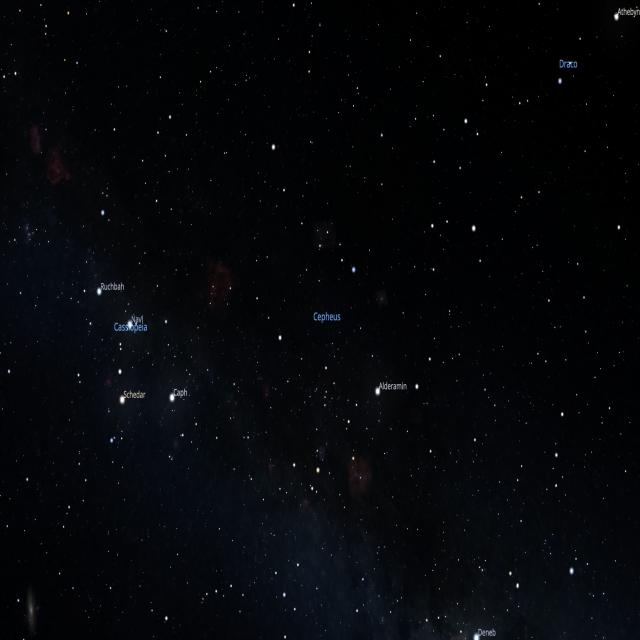Cepheus: (267, 138, 426, 480)
